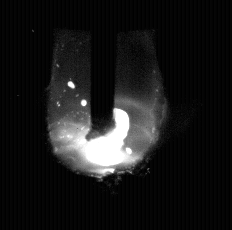arame: (91, 0, 115, 138)
poca: (49, 0, 160, 230)
